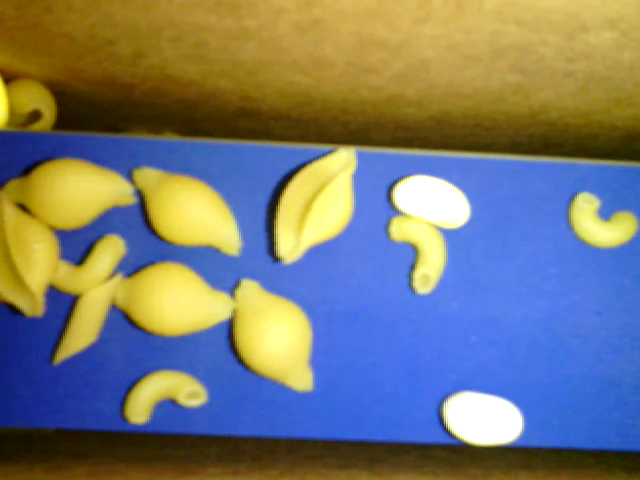elbow: (47, 232, 128, 295), (119, 367, 204, 425), (388, 213, 447, 295), (566, 186, 636, 251)
penne: (54, 277, 122, 365)
shell: (263, 148, 361, 267), (131, 161, 243, 260), (100, 259, 239, 338), (233, 276, 315, 393), (7, 155, 139, 227), (2, 195, 56, 320), (5, 77, 60, 130)
